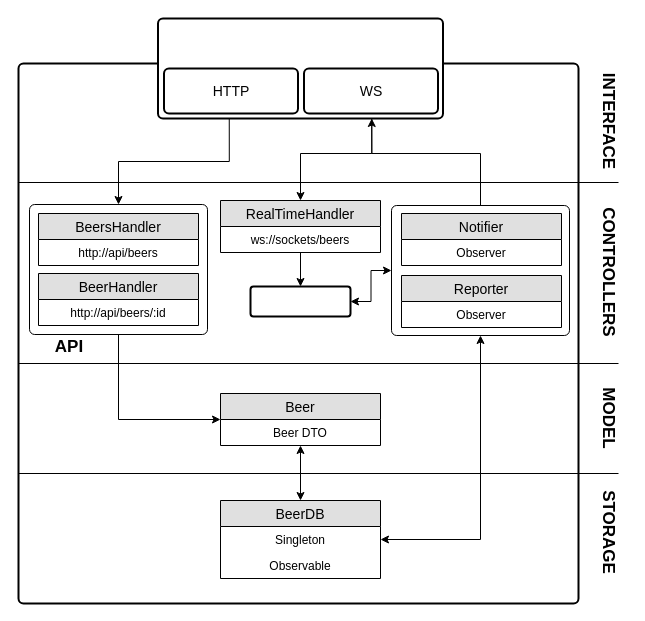
Some shapes in this 645 by 621 pixel diagram are drawn without their labels. The centre of each missing label's shape, as x and y in pixels:
"Connections" goes at pixel 300 301.
"Network" goes at pixel 297 38.
